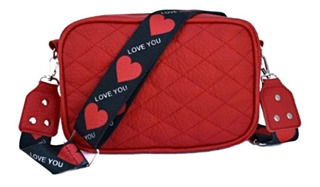cartera: (18, 9, 301, 175)
